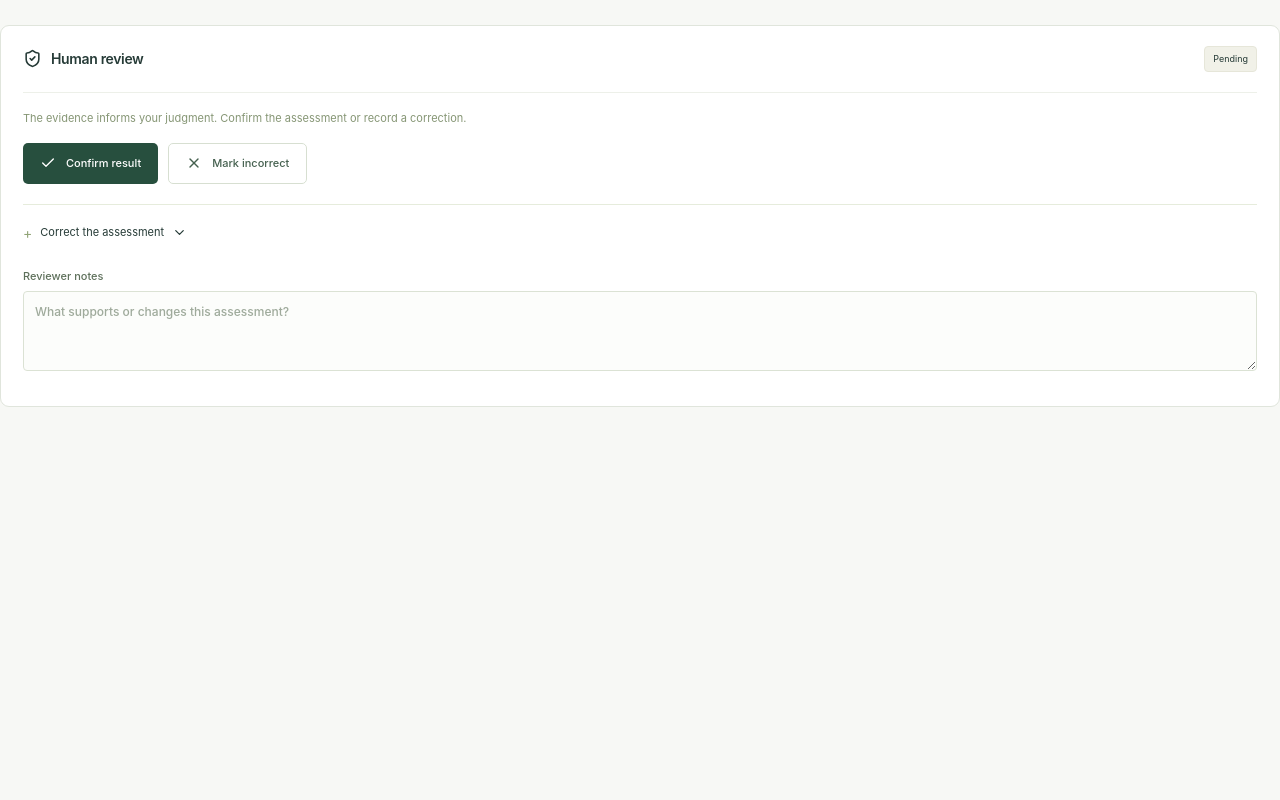
Test: supports unknown and manual corrections without overwriting evidence
Click the heading "Correct the assessment" at x=114, y=232, box [40,225,187,240]
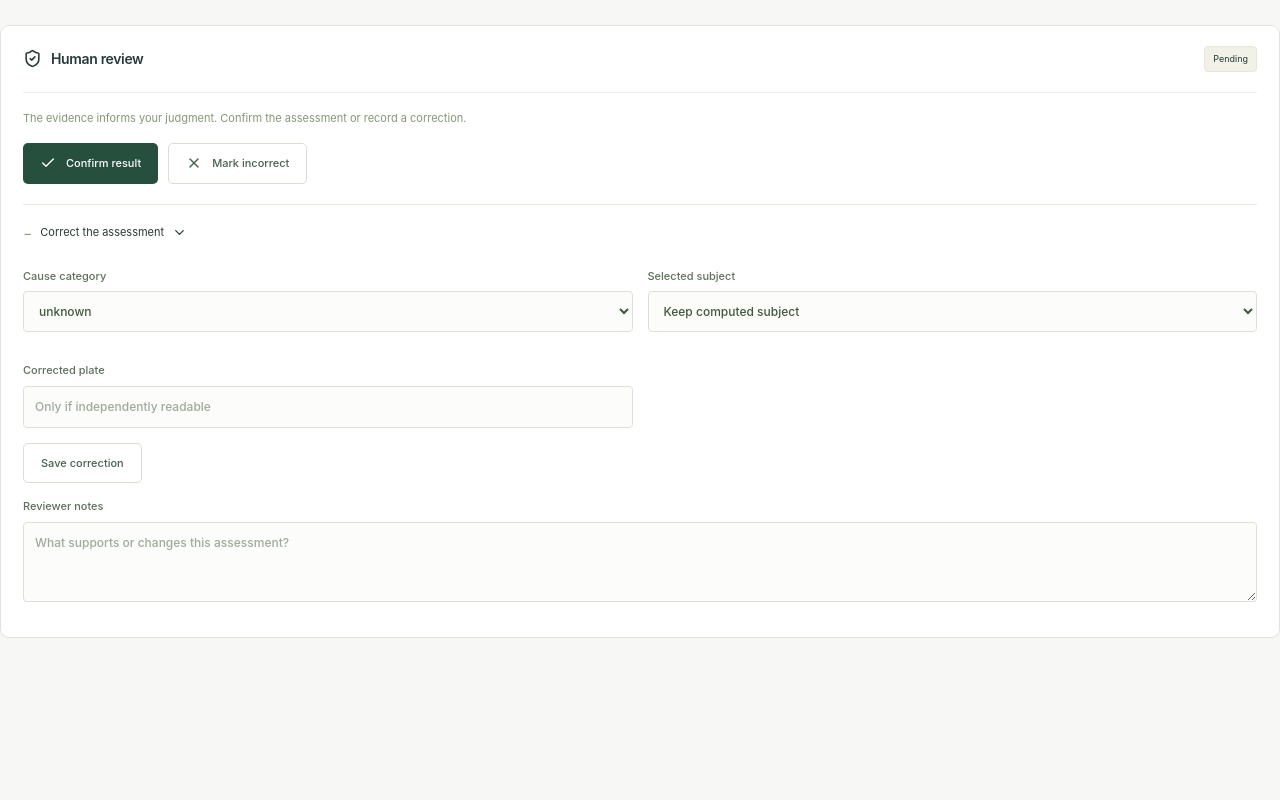
Now the dropdown labelled "Cause category" shows "unknown"
Select "stalled vehicle" in the dropdown labelled "Cause category" at x=328, y=312, box [23,291,632,332]
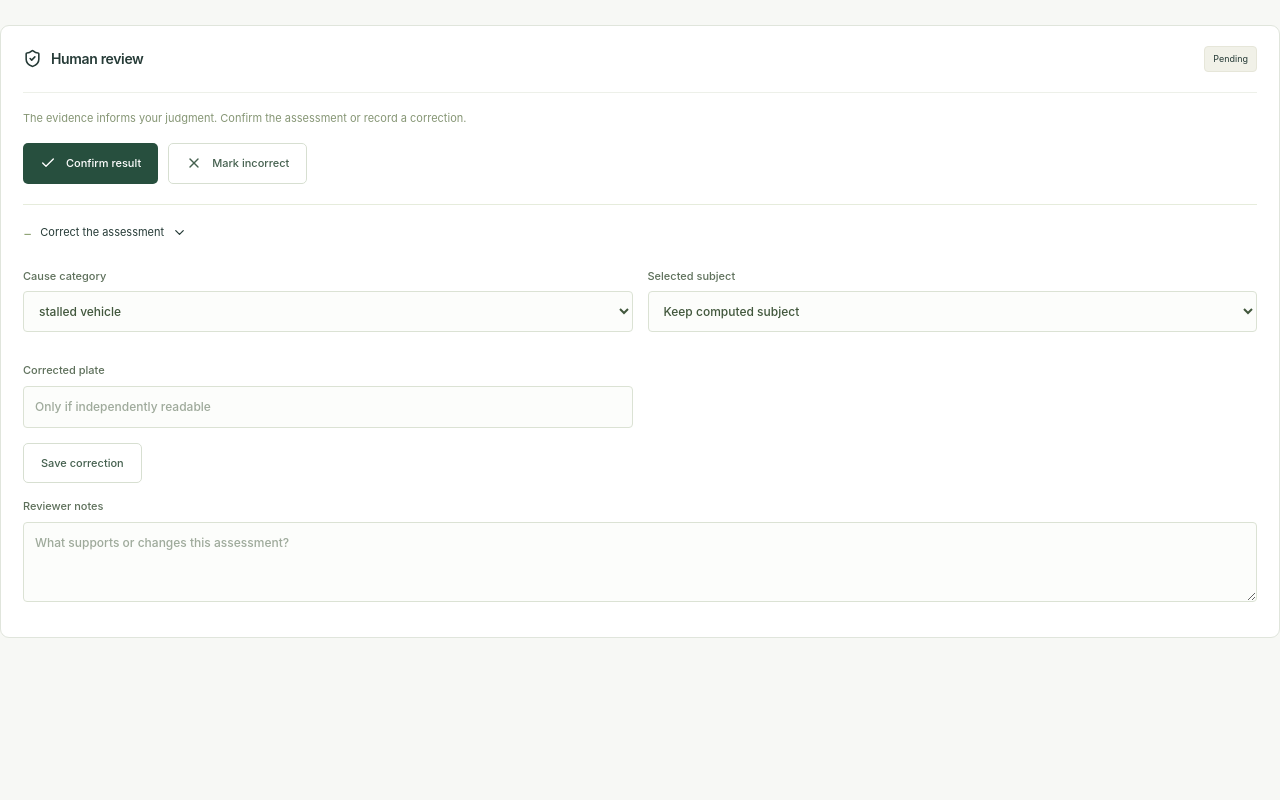
Select "#1 · car" in the dropdown labelled "Selected subject" at x=952, y=312, box [648,291,1257,332]
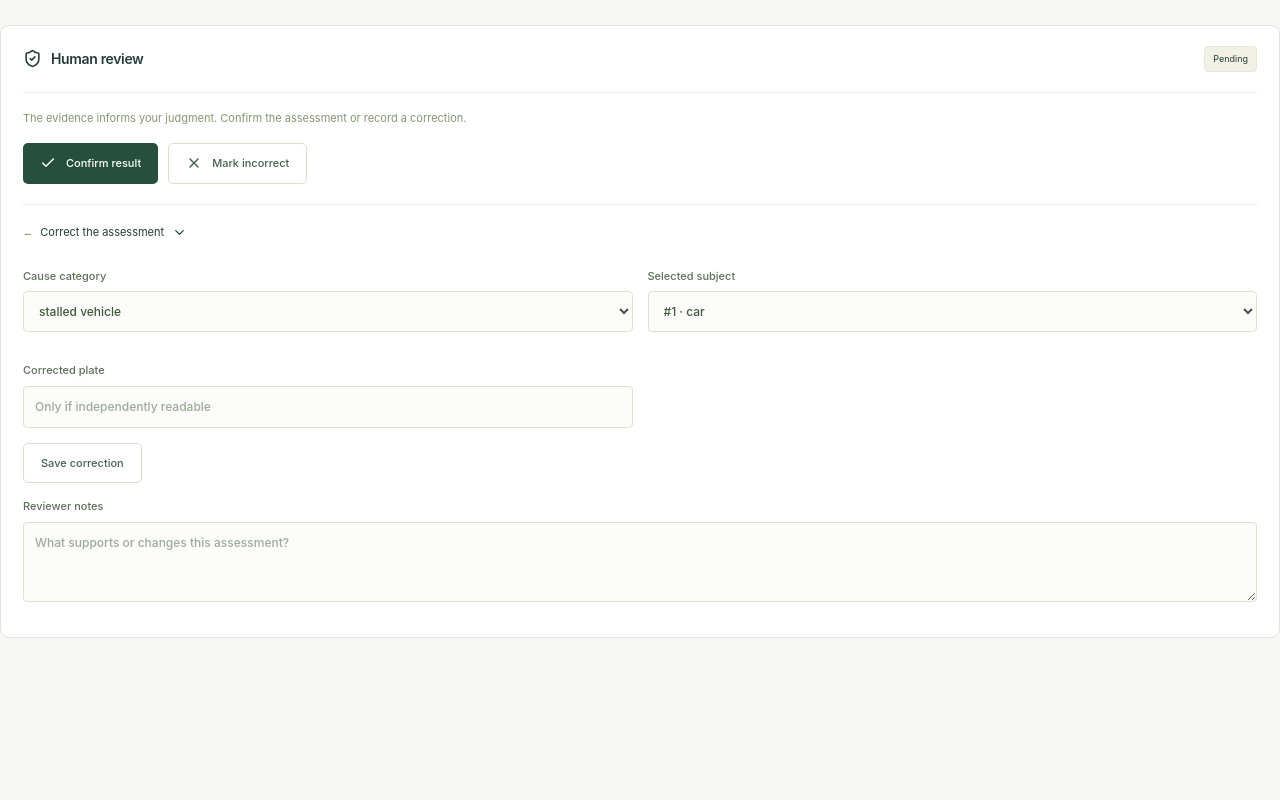
Type "KA01AB1234" into the field labelled "Corrected plate" at x=328, y=407, box [23,386,632,428]
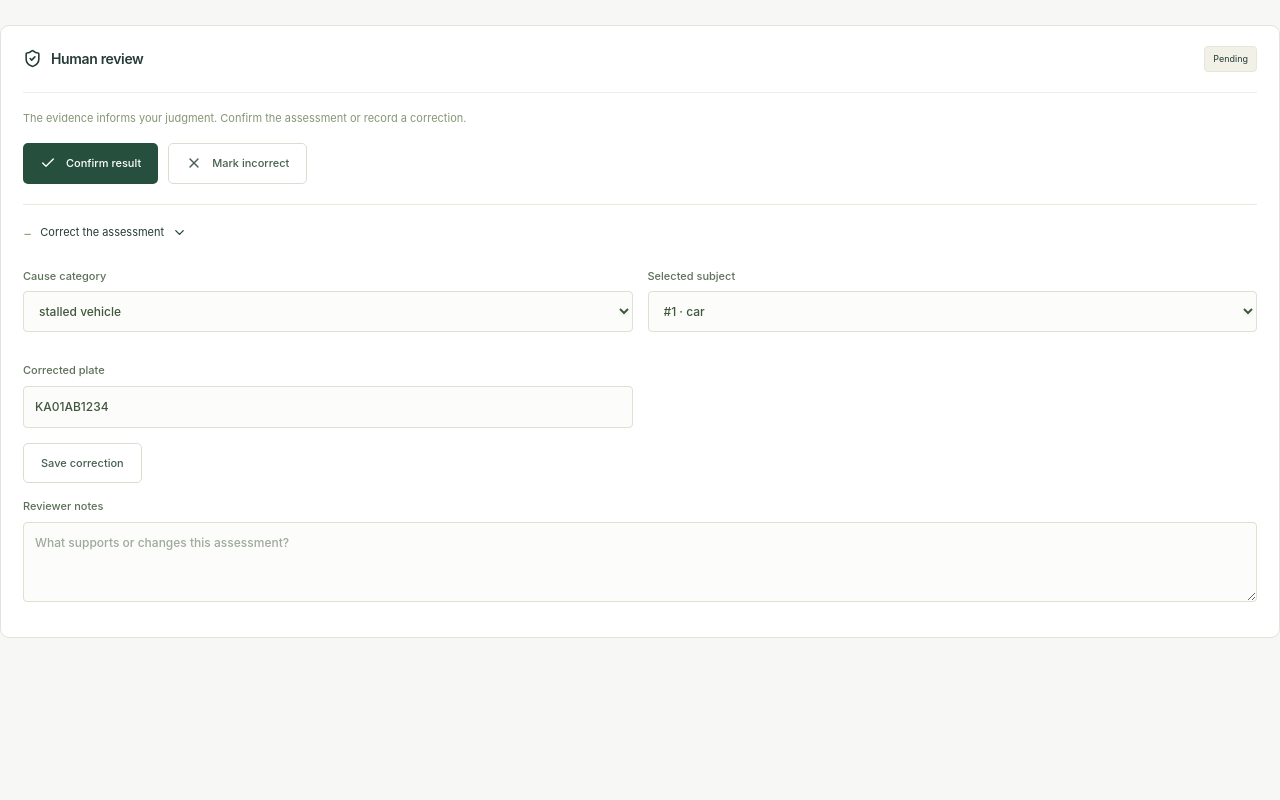
Click the button "Save correction" at x=82, y=463, box [23,443,142,483]
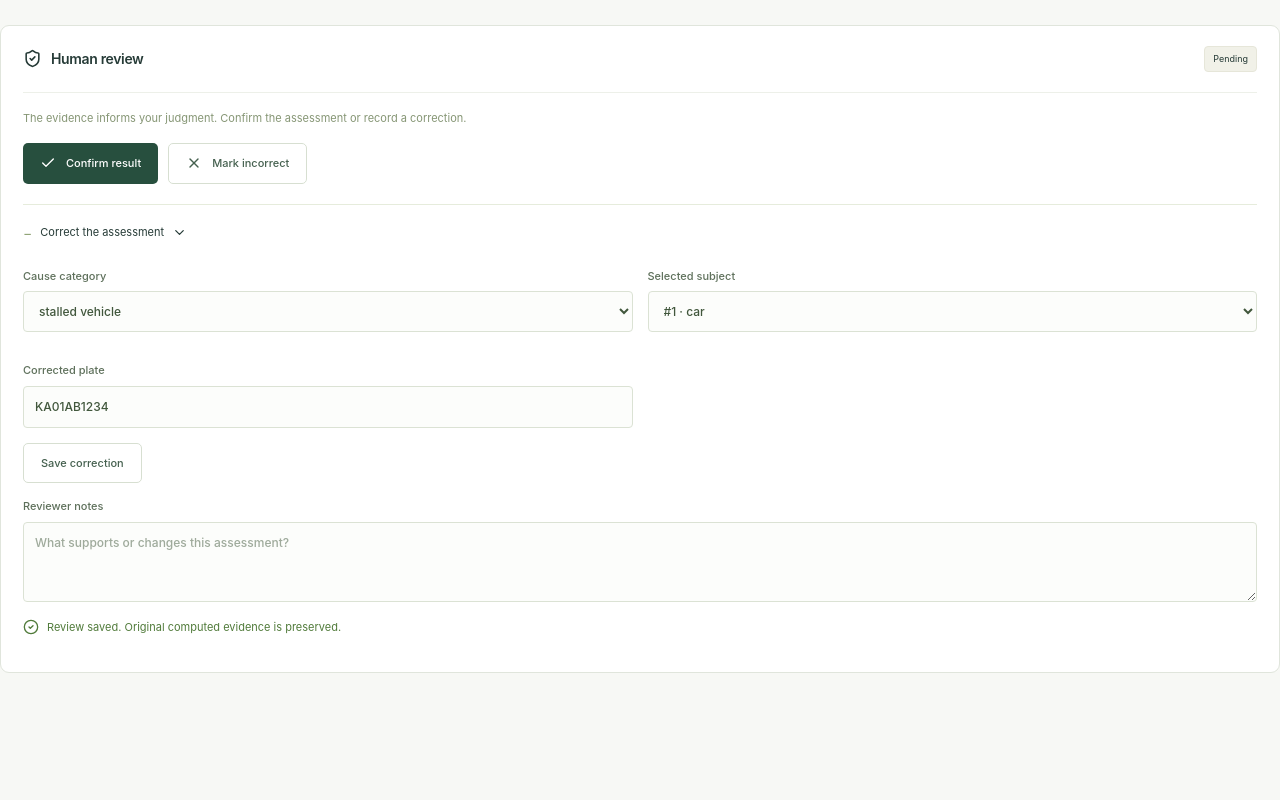
Now the message shows "Review saved", box [47,620,341,634]
